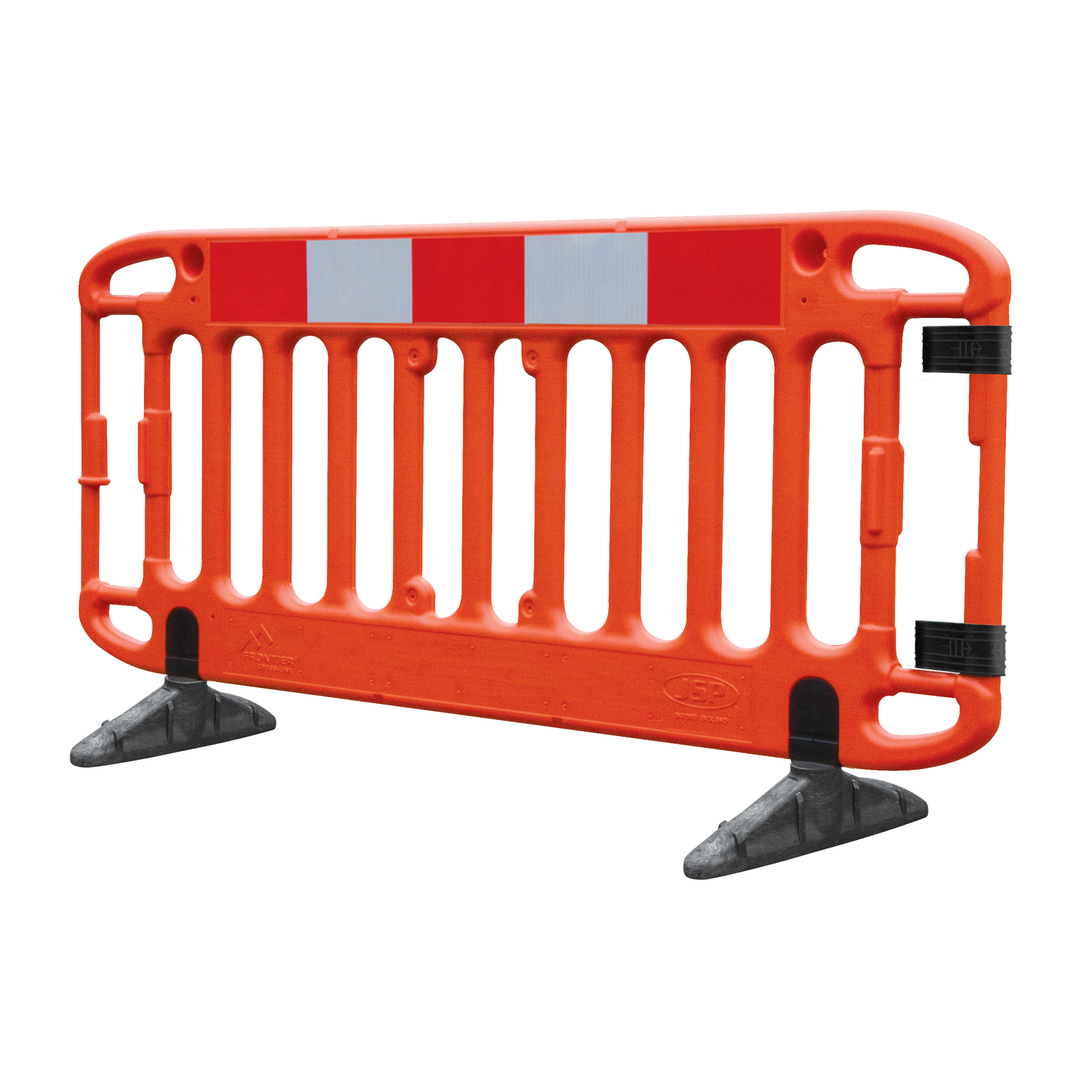Barrier: (29, 211, 1009, 882)
